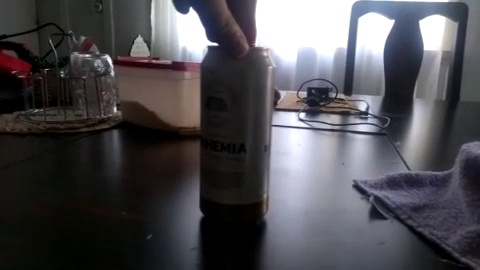bohemia: (188, 52, 268, 209)
